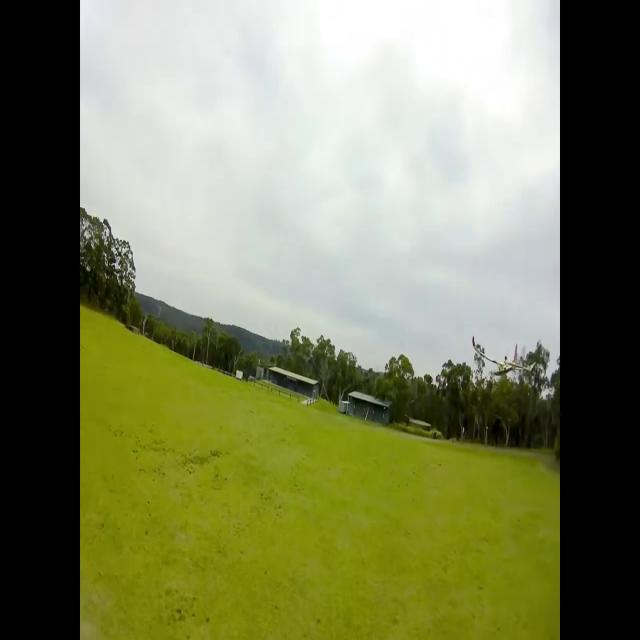iha: (473, 347, 535, 381)
